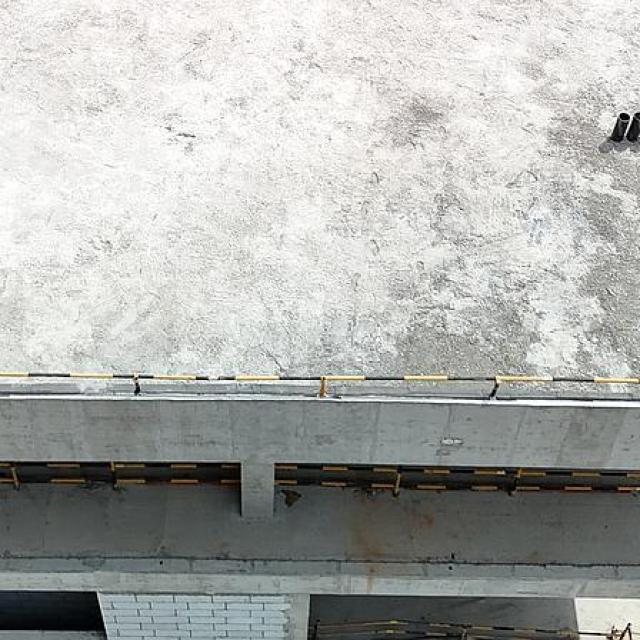Guardrail: (0, 369, 640, 401), (273, 463, 640, 497), (0, 460, 241, 492), (305, 618, 615, 640)
